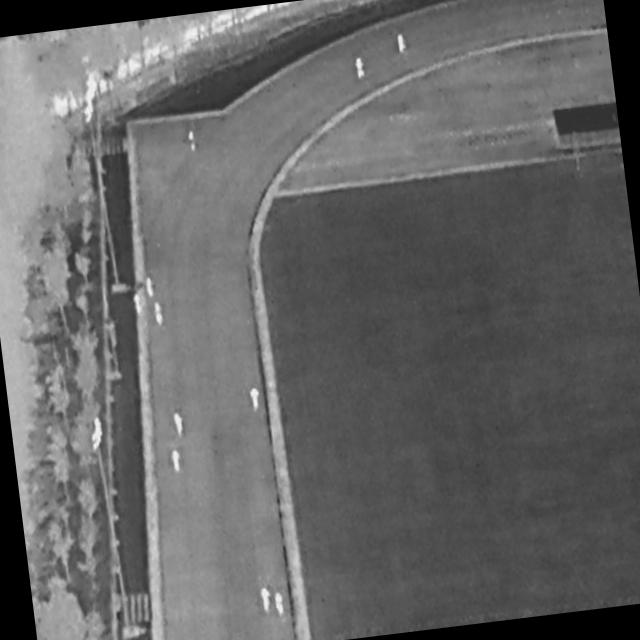person: (259, 587, 273, 614), (170, 449, 184, 474), (153, 302, 166, 328), (249, 387, 263, 411), (173, 412, 185, 438), (355, 56, 367, 81), (274, 591, 286, 616), (397, 33, 408, 55), (188, 130, 198, 152), (133, 293, 143, 315), (146, 277, 155, 298)
